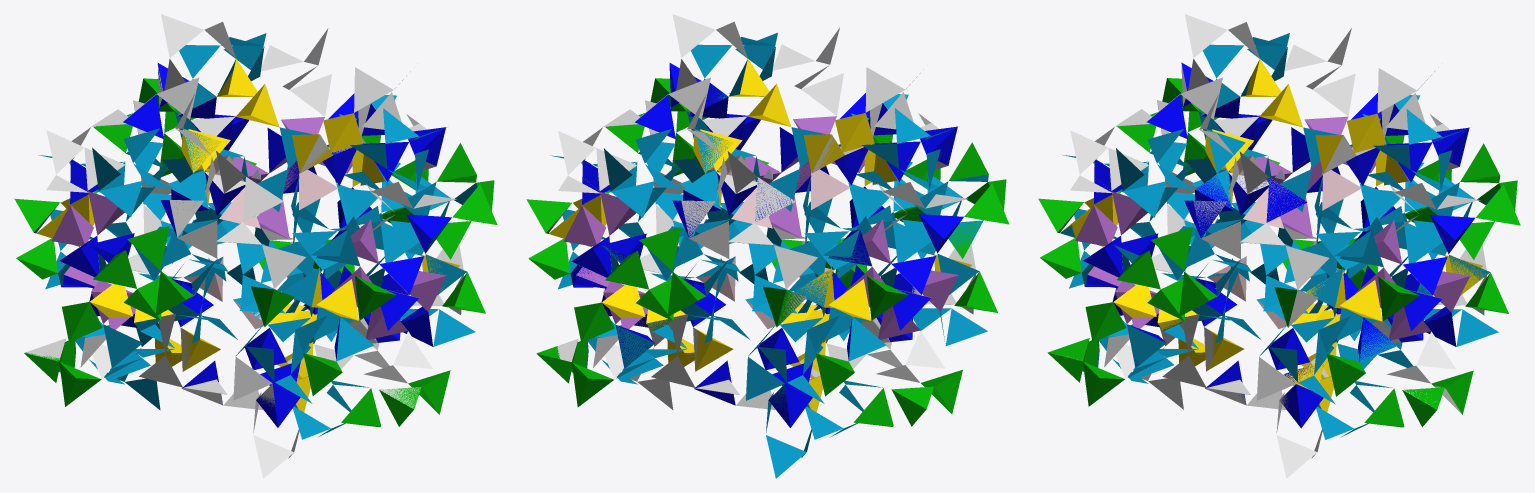
The model's file is Hexamer_Backbone_Merged_UnityScale.fbx.
3 views of the same model, side by side, from view 1: azimuth 30°, elevation 25°; view 2: azimuth 150°, elevation 25°; view 3: azimuth 270°, elevation 25° (orthographic).
Parts seen in each view (by area): view 1: Volume Merged Hexamer; view 2: Volume Merged Hexamer; view 3: Volume Merged Hexamer.
Part boxes in pixels (x1=…): Volume Merged Hexamer: x1=14, y1=14, x2=497, y2=478; Volume Merged Hexamer: x1=526, y1=14, x2=1009, y2=478; Volume Merged Hexamer: x1=1038, y1=14, x2=1520, y2=478.
Size of the model in its own units: 105 by 87.89 by 107.
